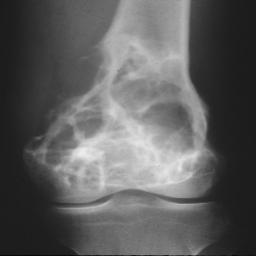cancer: (26, 37, 218, 207)
